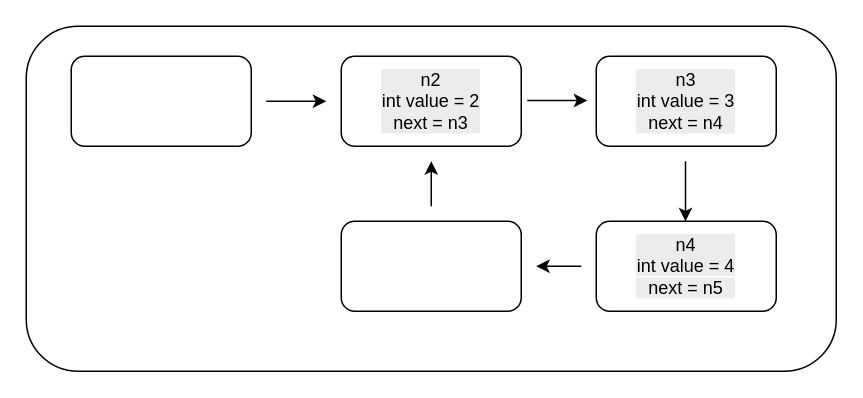
Some shapes in this 863 by 398 pixel diagram are drawn without their labels. The centre of each missing label's shape, as x and y in pixels:
"n1 int value = 1 next = n2" belongs at [160,100].
"n5 int value = 5 next = n2" belongs at [430,265].
